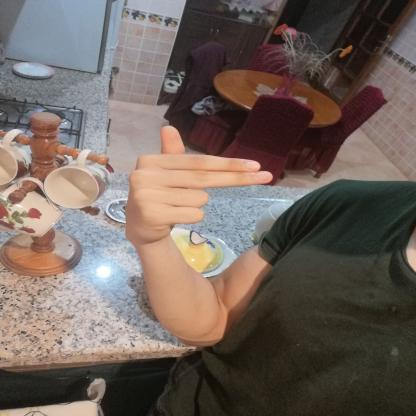GHAYN: (112, 118, 284, 250)
